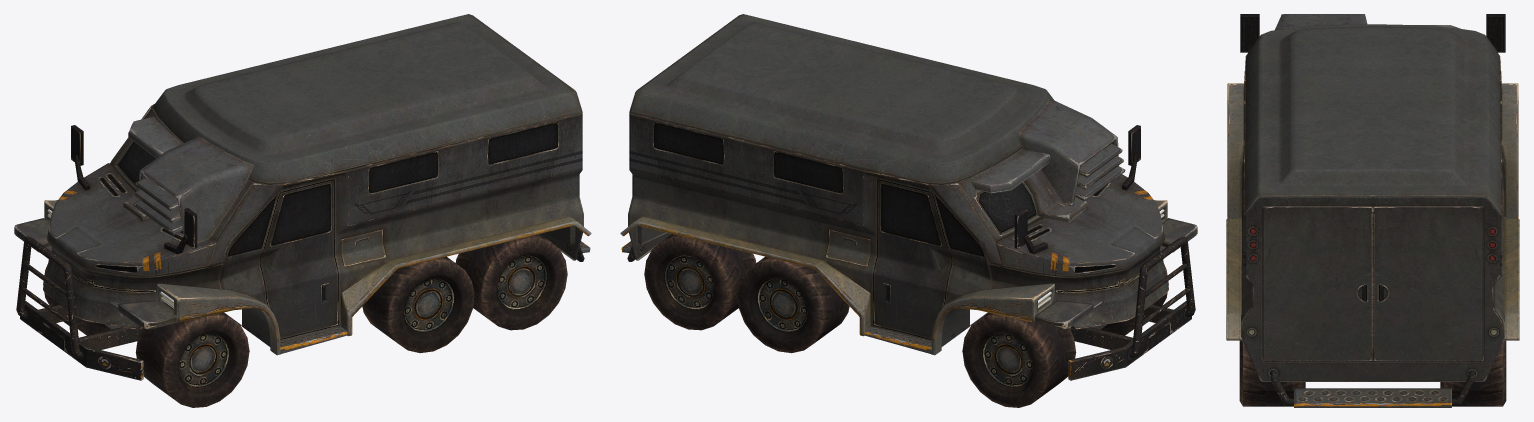
The model's file is truckbombshell.dae.
The picture shows the model from 3 angles, left to right: view 1: azimuth 30°, elevation 25°; view 2: azimuth 150°, elevation 25°; view 3: azimuth 270°, elevation 25°; orthographic projection. The views are drawn at different scales.
Parts seen in each view (by area): view 1: Truck_RainFix; view 2: Truck_RainFix; view 3: Truck_RainFix.
Part boxes in pixels (x1,y1,x2,y2): Truck_RainFix: (14,14,591,407); Truck_RainFix: (620,14,1197,407); Truck_RainFix: (1226,14,1519,407).
Size of the model in its own units: 305 by 141 by 131.
Materials: 1 (1 with a texture image).
